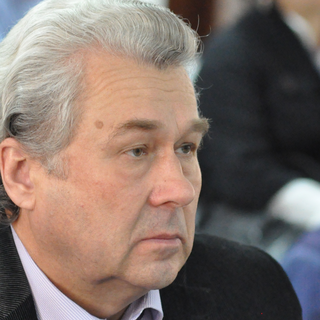eye: (114, 140, 160, 164), (169, 136, 199, 159)
